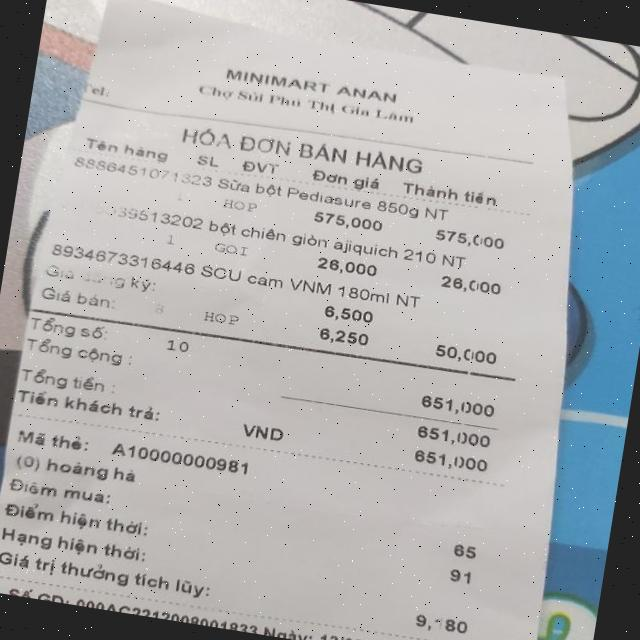Date: (317, 629, 409, 640)
Store_Name: (223, 64, 404, 109)
amount_number: (414, 388, 500, 421)
label_total: (24, 336, 124, 367)
